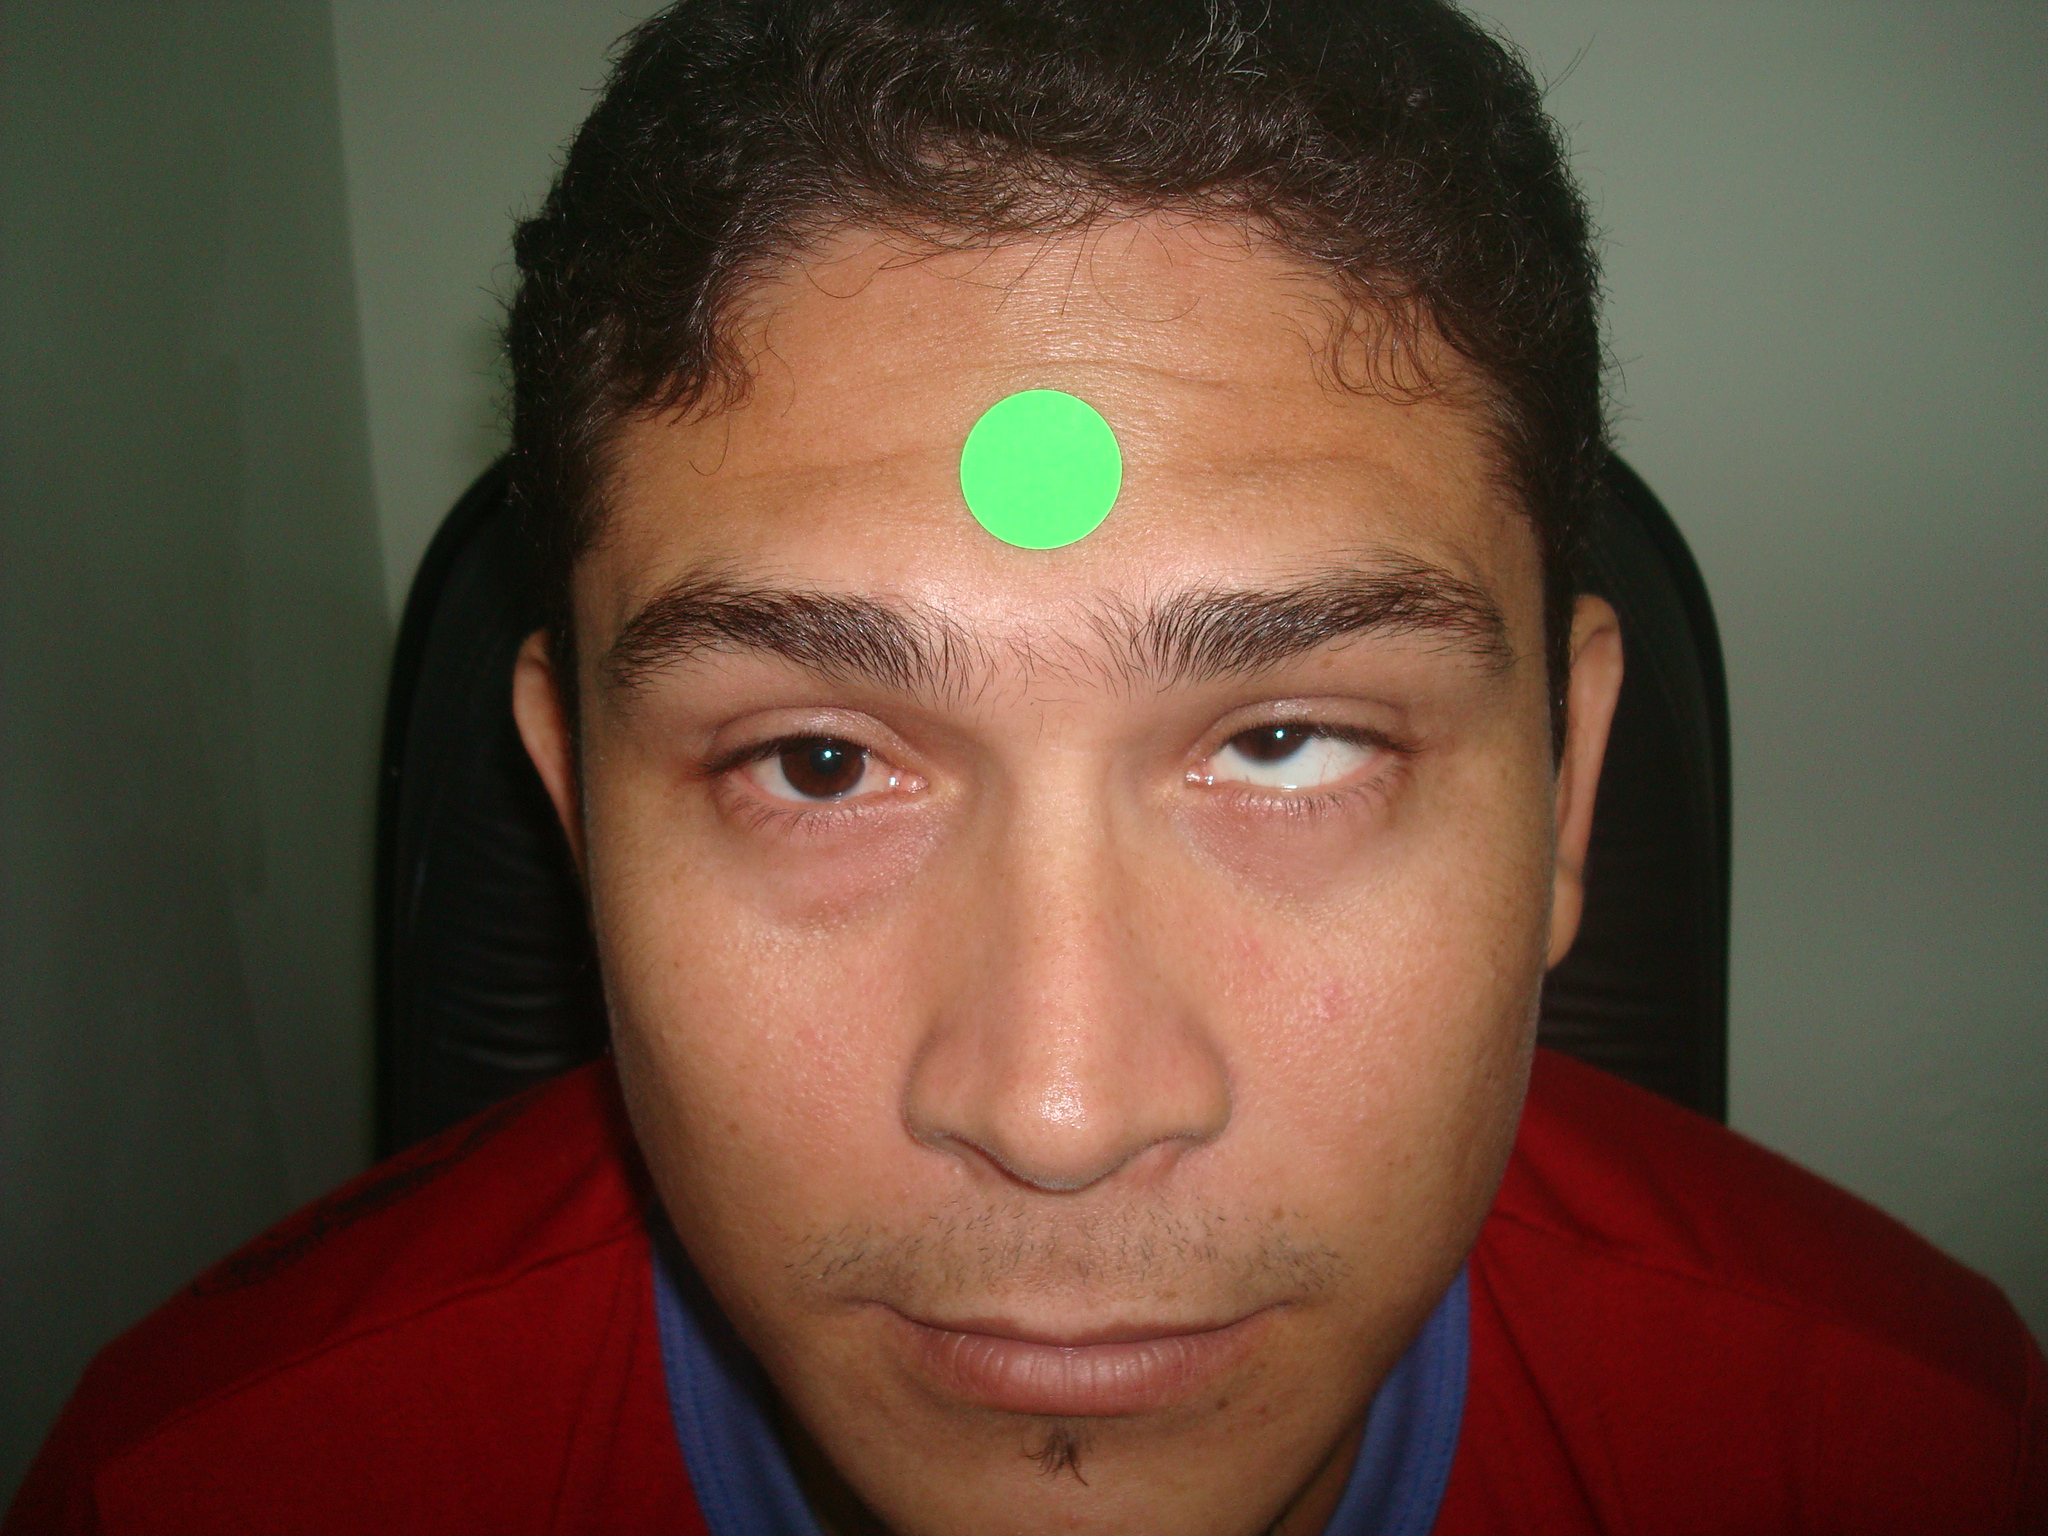flash: (1272, 726, 1287, 742), (822, 749, 834, 762)
limbo: (782, 723, 868, 794), (1232, 702, 1301, 758)
